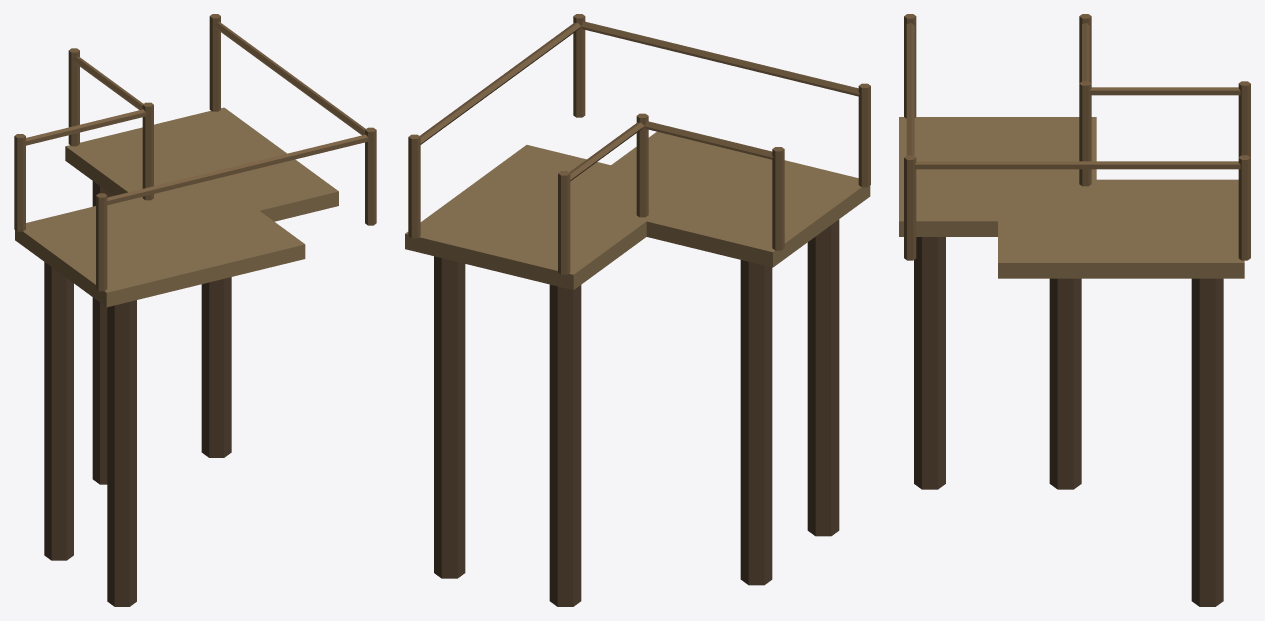
The model's file is K_WalkCorner.glb.
3 renders of one model, left to right at view 1: azimuth 30°, elevation 25°; view 2: azimuth 150°, elevation 25°; view 3: azimuth 270°, elevation 25°, orthographic. The views are drawn at different scales.
Parts seen in each view (by area): view 1: K_WalkCorner; view 2: K_WalkCorner; view 3: K_WalkCorner.
Boxes of the visible parts, x1,y1,x2,y2 form: K_WalkCorner: (14,14,376,606); K_WalkCorner: (405,14,870,606); K_WalkCorner: (899,14,1250,606).
Size of the model in its own units: 2.84 by 4.04 by 2.85.
